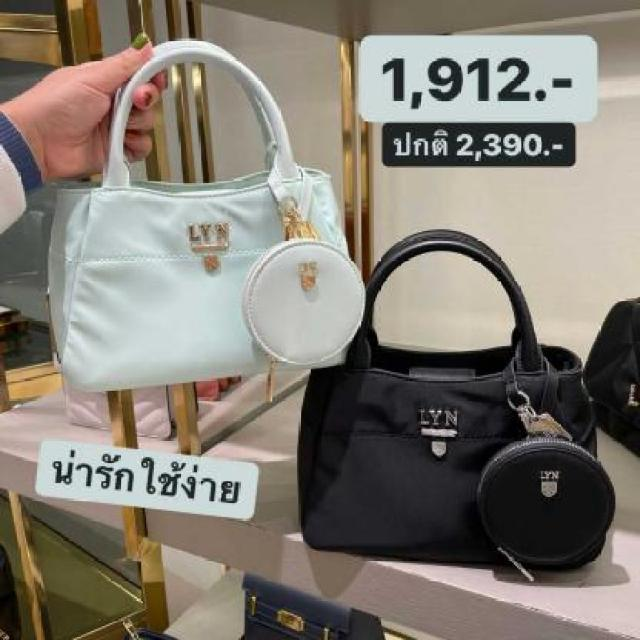Bag: (290, 133, 630, 622), (22, 7, 418, 422)
